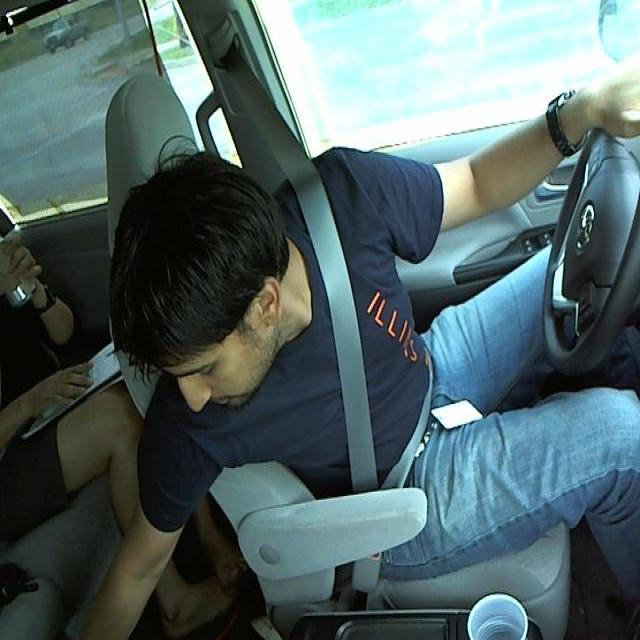seatbelt: (299, 186, 401, 478)
